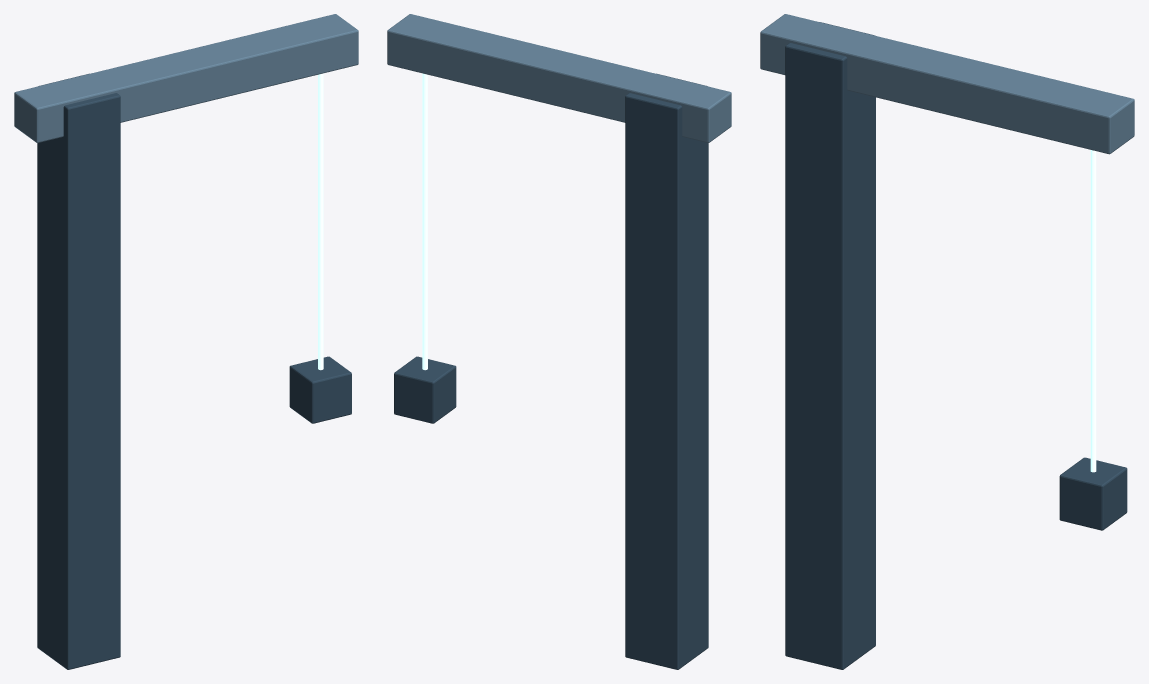
The model's file is SM_Rheinufer_Crane.fbx.
3 renders of one model, left to right at view 1: azimuth 30°, elevation 25°; view 2: azimuth 150°, elevation 25°; view 3: azimuth 330°, elevation 25°, orthographic. The views are drawn at different scales.
Visible parts, largest first — view 1: SM_Rheinufer_Crane; view 2: SM_Rheinufer_Crane; view 3: SM_Rheinufer_Crane.
Part boxes in pixels (bbox=[...]): SM_Rheinufer_Crane: bbox=[14, 14, 358, 669]; SM_Rheinufer_Crane: bbox=[387, 14, 731, 669]; SM_Rheinufer_Crane: bbox=[760, 14, 1134, 669].
Bounding box in the file's own units: 2.4 × 4.03 × 0.4.
